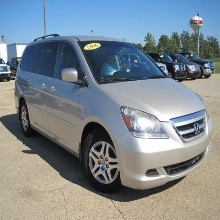no damage: (14, 36, 210, 193)
